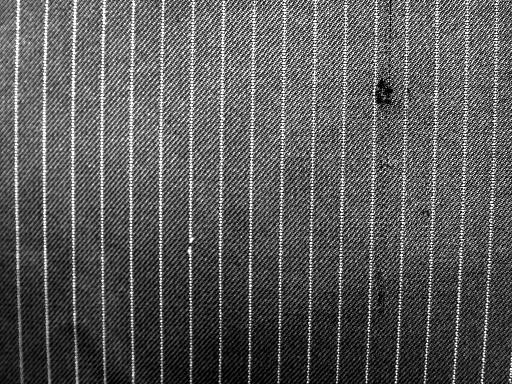fabric_hole: (359, 71, 409, 115)
